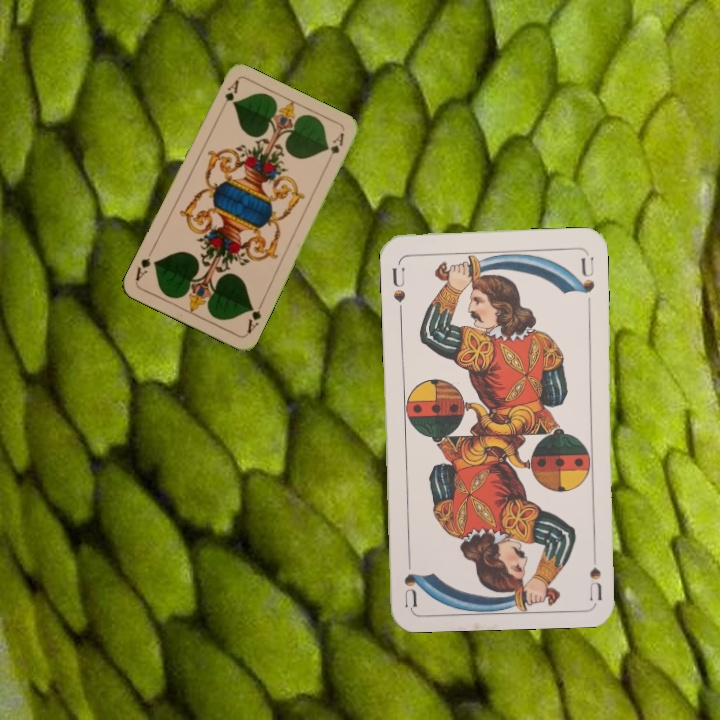GA: (242, 298, 265, 337), (221, 76, 241, 104)
SU: (388, 263, 408, 316), (585, 563, 604, 601)
